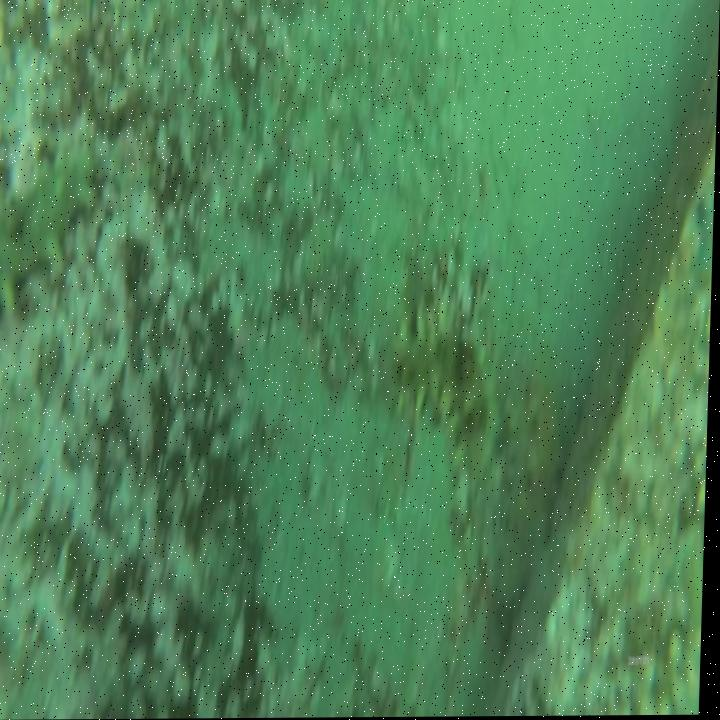holothurian: (480, 372, 567, 598), (0, 136, 101, 325), (395, 328, 504, 485)
